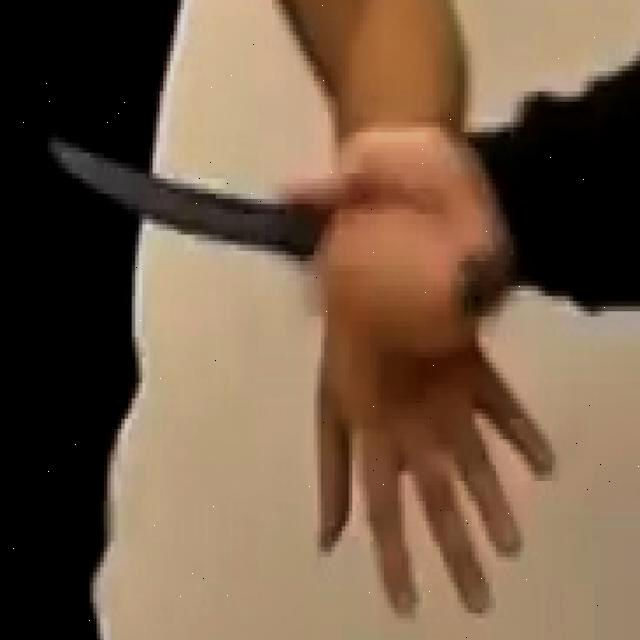suspicion: (37, 43, 636, 367), (41, 122, 327, 262)
